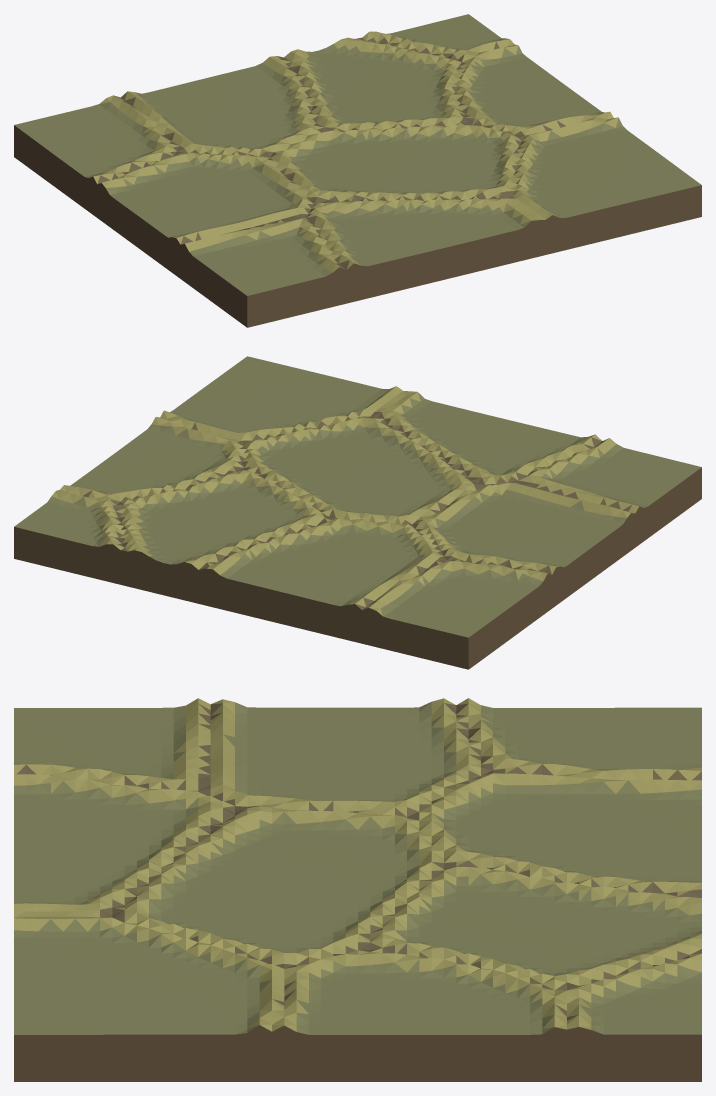
Rendered from ice-wedge-polygon-ground.glb.
The picture shows the model from 3 angles, top to bottom: view 1: azimuth 30°, elevation 25°; view 2: azimuth 150°, elevation 25°; view 3: azimuth 270°, elevation 25°; orthographic projection. The views are drawn at different scales.
Parts seen in each view (by area): view 1: single_welded_hummocky_low_centered_polygon_heightfield; view 2: single_welded_hummocky_low_centered_polygon_heightfield; view 3: single_welded_hummocky_low_centered_polygon_heightfield.
Boxes of the visible parts, x1,y1,x2,y2 form: single_welded_hummocky_low_centered_polygon_heightfield: (14, 14, 701, 327); single_welded_hummocky_low_centered_polygon_heightfield: (14, 356, 701, 669); single_welded_hummocky_low_centered_polygon_heightfield: (14, 698, 701, 1081).
Size of the model in its own units: 45 by 3.72 by 40.
